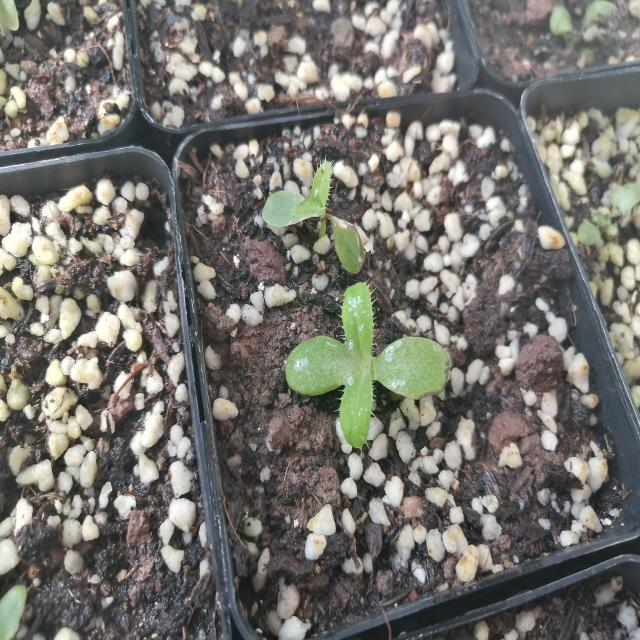field_thistle: (283, 269, 452, 452), (256, 162, 373, 286)
